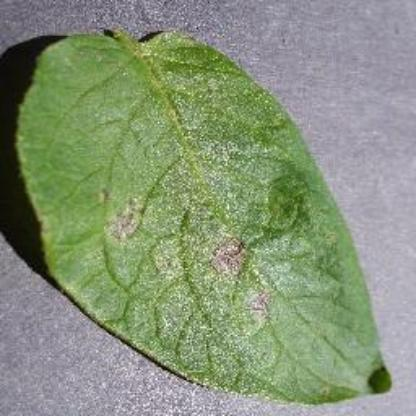Early-Blight: (12, 22, 394, 402)
